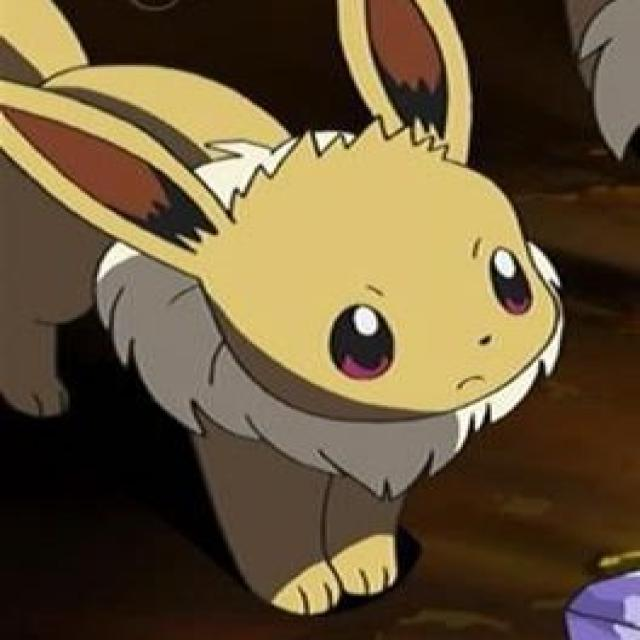Eevee: (50, 99, 564, 608)
